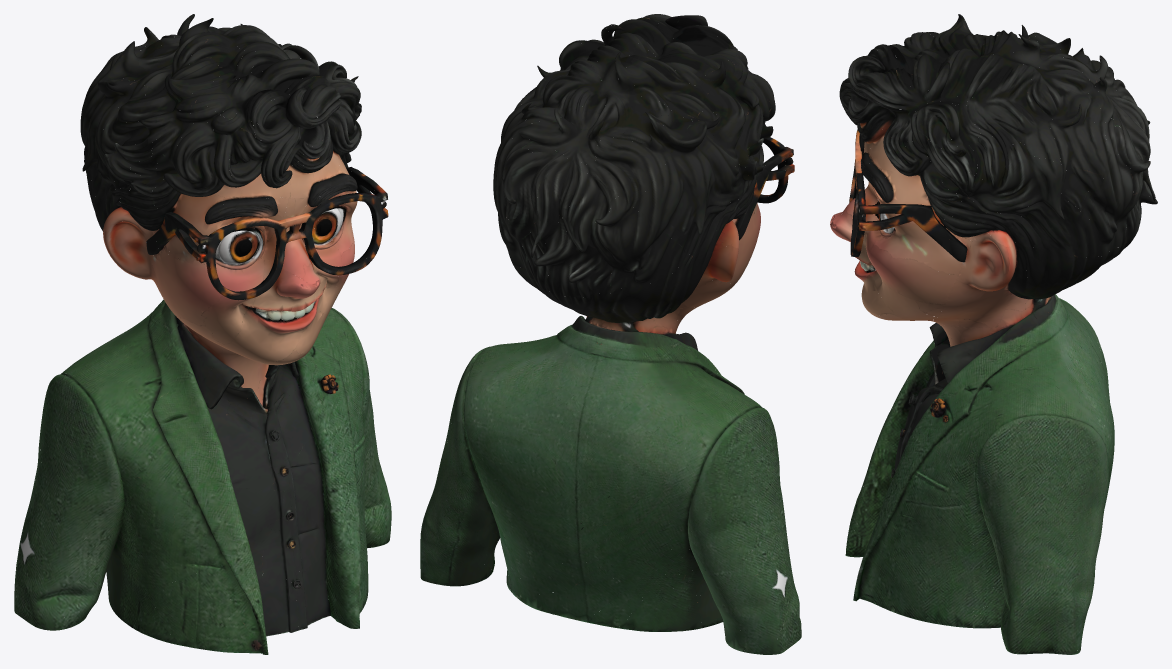
The model's file is mohsin.glb.
3 views of the same model, side by side, from view 1: azimuth 30°, elevation 25°; view 2: azimuth 150°, elevation 25°; view 3: azimuth 270°, elevation 25° (orthographic). The views are drawn at different scales.
Parts seen in each view (by area): view 1: tmpdii_s51nobj; view 2: tmpdii_s51nobj; view 3: tmpdii_s51nobj.
Part boxes in pixels (<box>): tmpdii_s51nobj: <box>14,14,391,654</box>; tmpdii_s51nobj: <box>420,14,801,654</box>; tmpdii_s51nobj: <box>830,14,1157,654</box>.
Size of the model in its own units: 0.6711 by 1 by 0.5517.
1 material, 1 textured.
